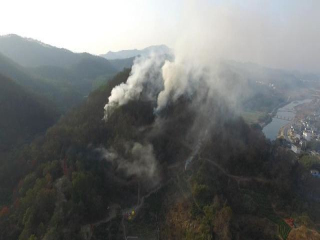smoke: (98, 12, 295, 185)
